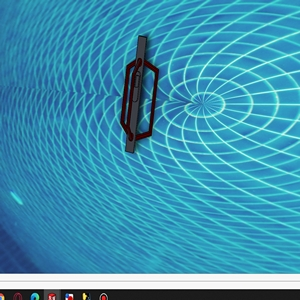submarine: (118, 34, 162, 155)
